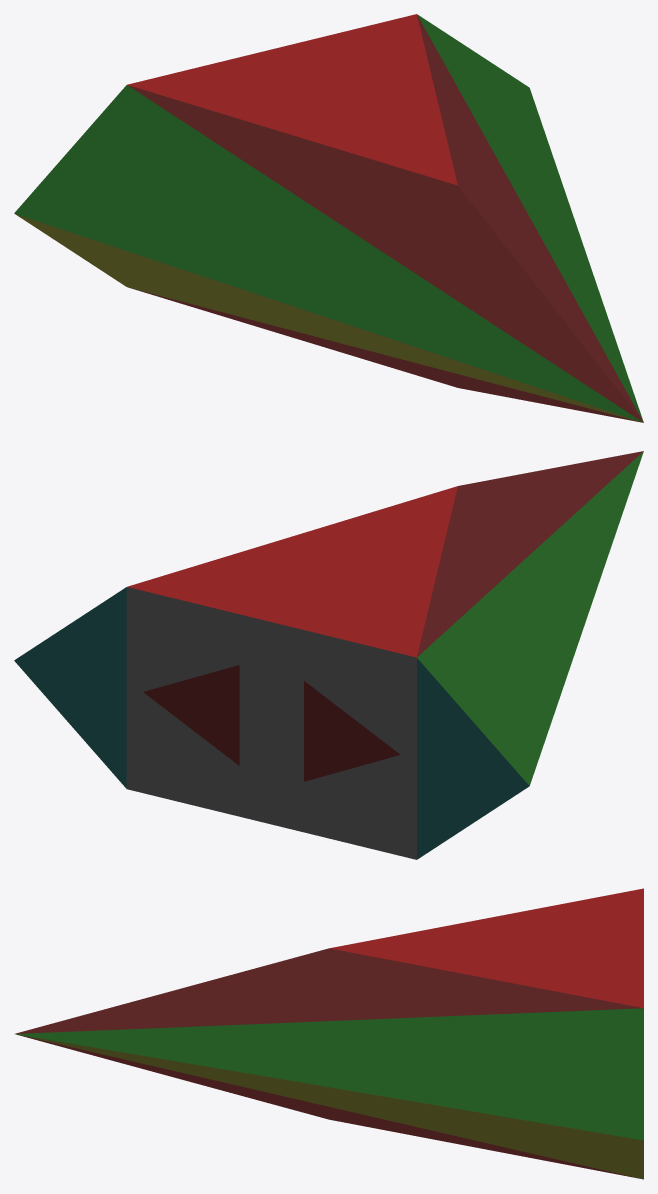
The model's file is arc_viper_interceptor.glb.
3 views of the same model, one above another, from view 1: azimuth 30°, elevation 25°; view 2: azimuth 150°, elevation 25°; view 3: azimuth 270°, elevation 25° (orthographic). The views are drawn at different scales.
Parts seen in each view (by area): view 1: griff_arcelite_viperv; view 2: griff_arcelite_viperv, griff_arcelite_viperv.001, griff_arcelite_viperv.002; view 3: griff_arcelite_viperv.
Part boxes in pixels (x1,y1,x2,y2): griff_arcelite_viperv: (14,14,643,422); griff_arcelite_viperv: (14,451,643,859); griff_arcelite_viperv.001: (143,665,239,765); griff_arcelite_viperv.002: (304,681,400,781); griff_arcelite_viperv: (15,888,643,1179).
Size of the model in its own units: 0.4448 by 0.1668 by 0.556.
1 material, 1 textured.
